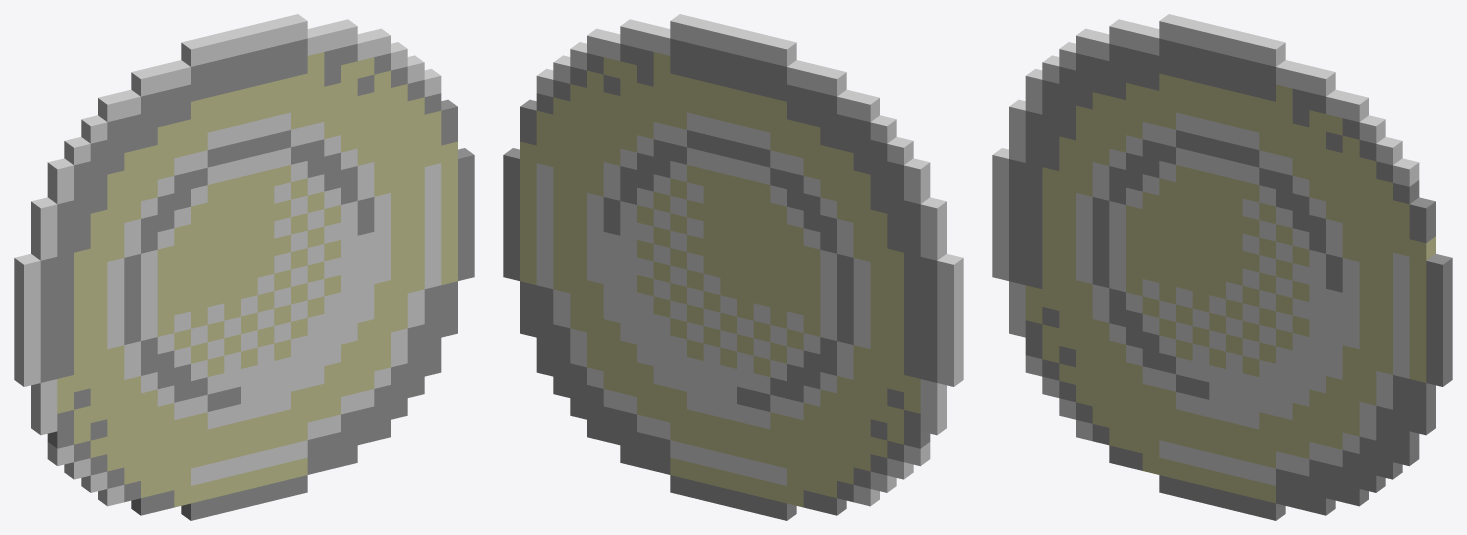
The model's file is I_BronzeCoin.fbx.
The picture shows the model from 3 angles, left to right: view 1: azimuth 30°, elevation 25°; view 2: azimuth 150°, elevation 25°; view 3: azimuth 330°, elevation 25°; orthographic projection.
Parts seen in each view (by area): view 1: Default; view 2: Default; view 3: Default.
Boxes of the visible parts, bbox=[...] form: Default: bbox=[14, 14, 474, 520]; Default: bbox=[503, 14, 963, 520]; Default: bbox=[992, 14, 1452, 520].
Bounding box in the file's own units: 27 × 27 × 1.
Materials: 1 (1 with a texture image).
